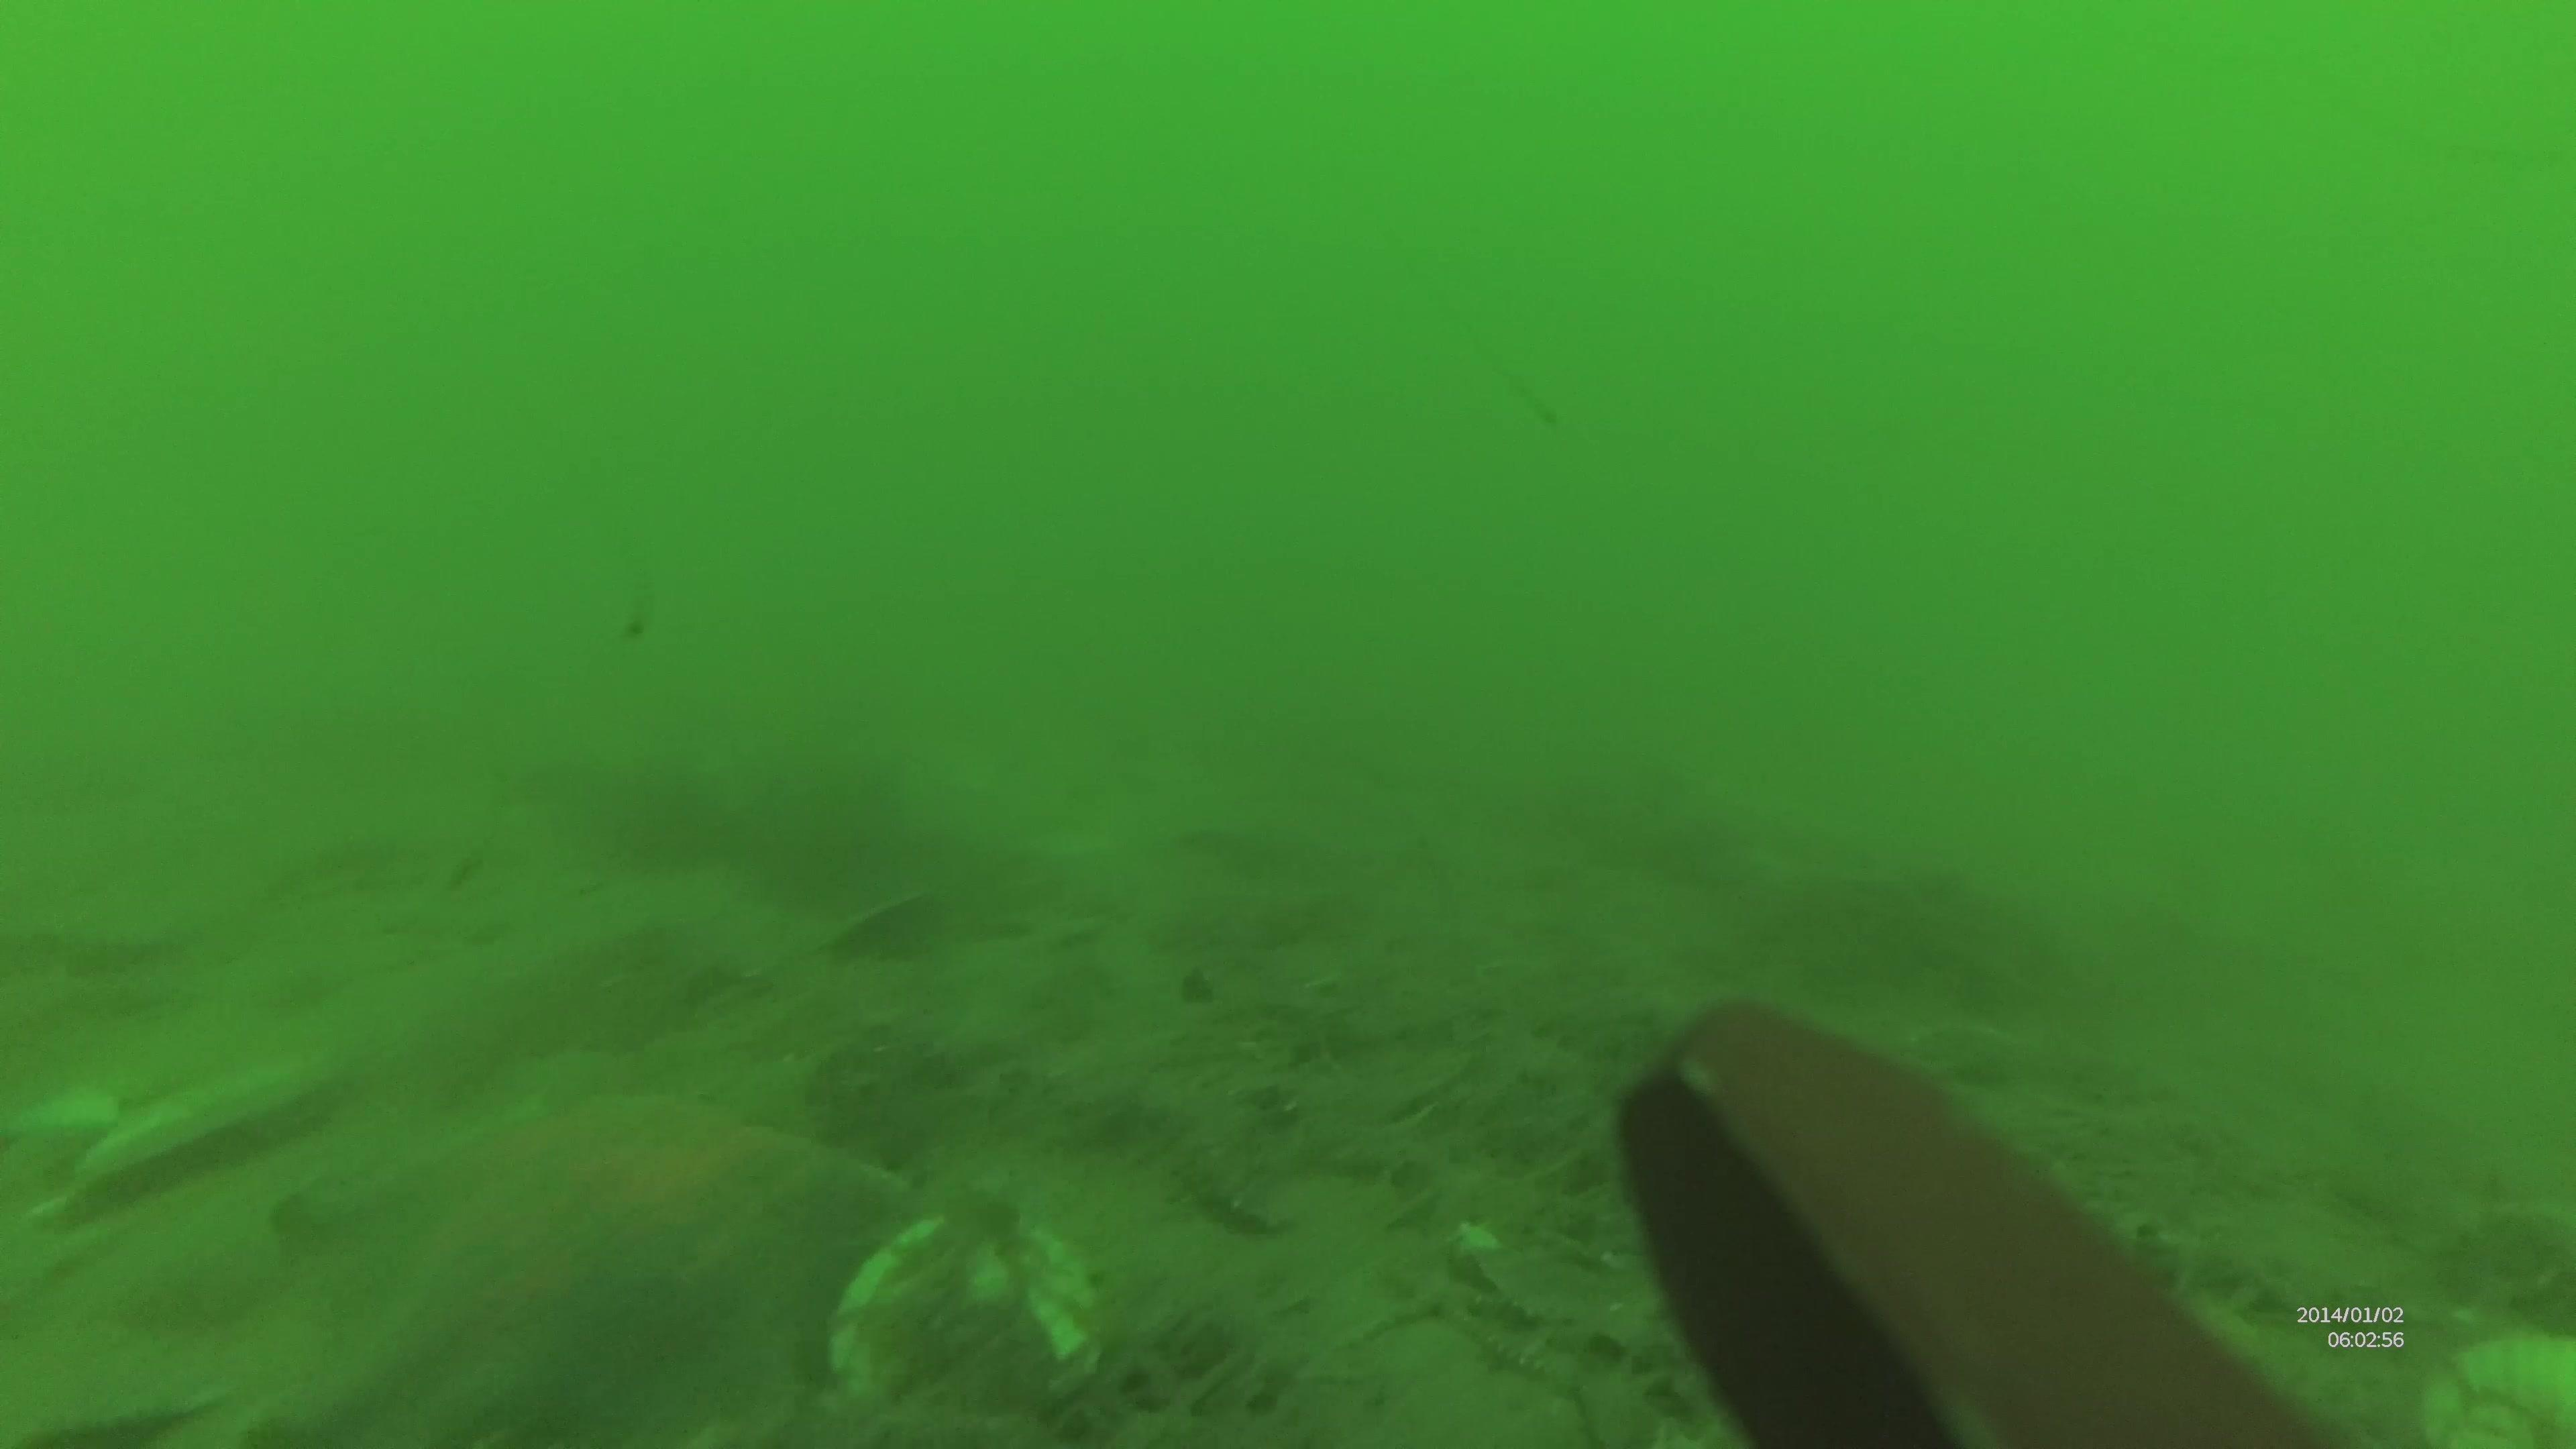scallop: (832, 1210, 1097, 1405), (2411, 1339, 2576, 1449)
starfish: (248, 1099, 916, 1449)
